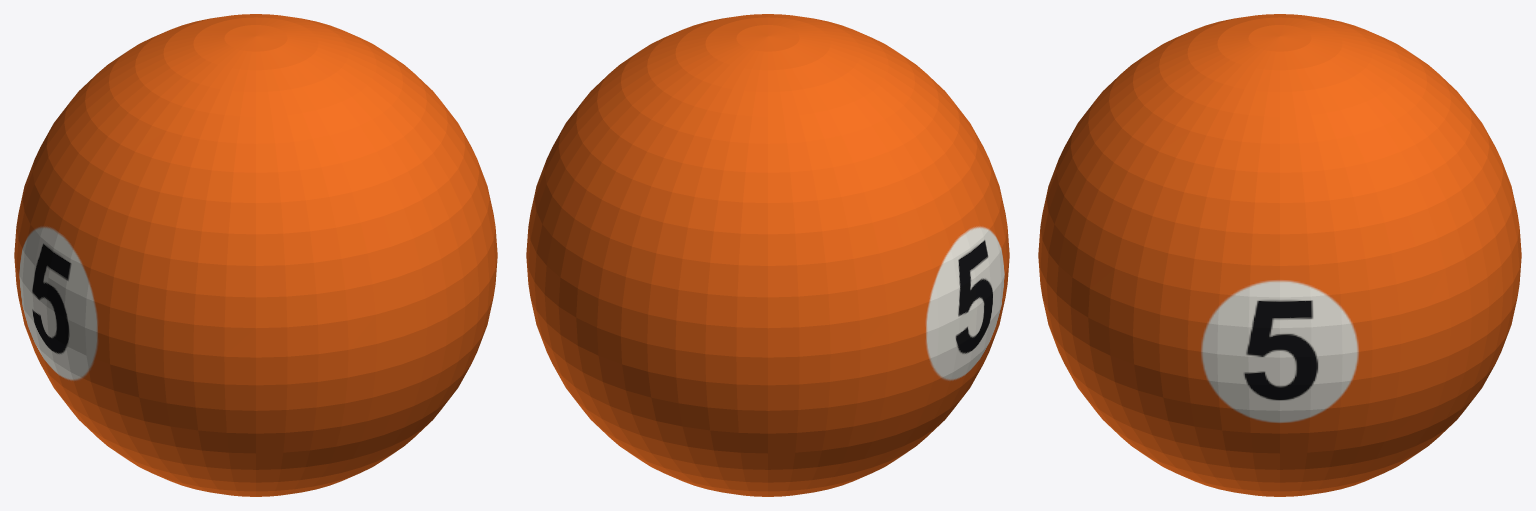
The model's file is ball_5.obj.
The picture shows the model from 3 angles, left to right: view 1: azimuth 30°, elevation 25°; view 2: azimuth 150°, elevation 25°; view 3: azimuth 270°, elevation 25°; orthographic projection.
Bounding box in the file's own units: 0.0571 × 0.0571 × 0.0571.
Materials: 1 (1 with a texture image).
